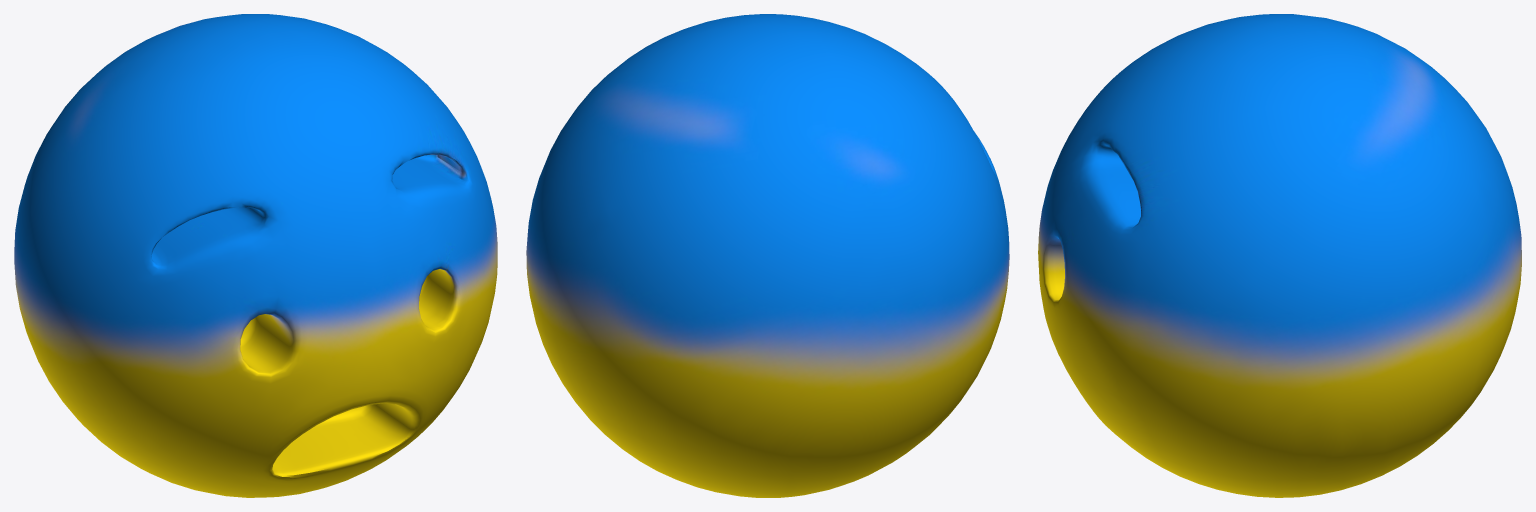
The model's file is fearful.dae.
3 renders of one model, left to right at view 1: azimuth 30°, elevation 25°; view 2: azimuth 150°, elevation 25°; view 3: azimuth 270°, elevation 25°, orthographic.
Parts seen in each view (by area): view 1: Group40013; view 2: Group40013; view 3: Group40013.
Boxes of the visible parts, x1,y1,x2,y2 form: Group40013: [14, 14, 497, 497]; Group40013: [526, 14, 1009, 497]; Group40013: [1038, 14, 1521, 497].
Size of the model in its own units: 23.65 by 23.66 by 23.65.
Materials: 1 (1 with a texture image).
